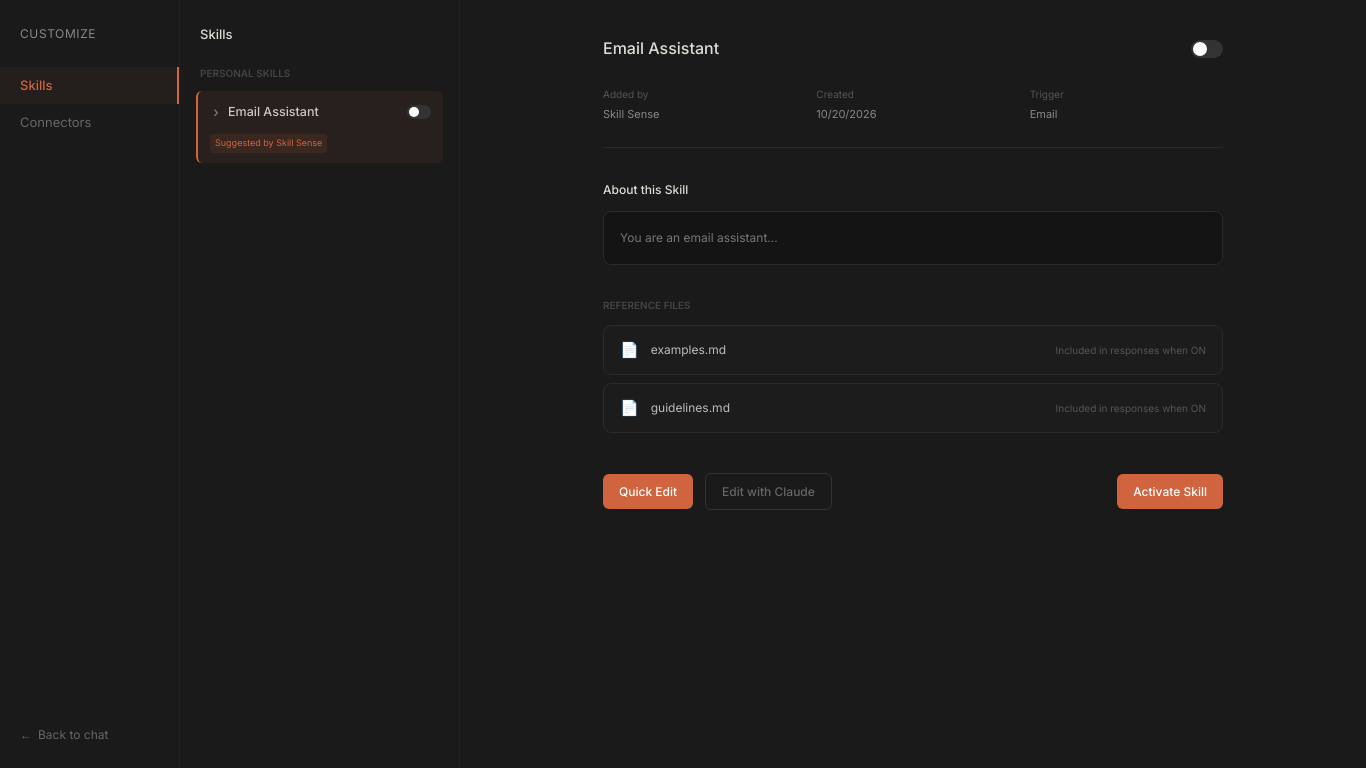
it: Phase 7 — Skills Section (Three-Panel Layout) › Edit with Claude button shows Coming Soon on click
Click the button with test id "edit-claude-btn" at (768, 491), box [705, 473, 832, 510]
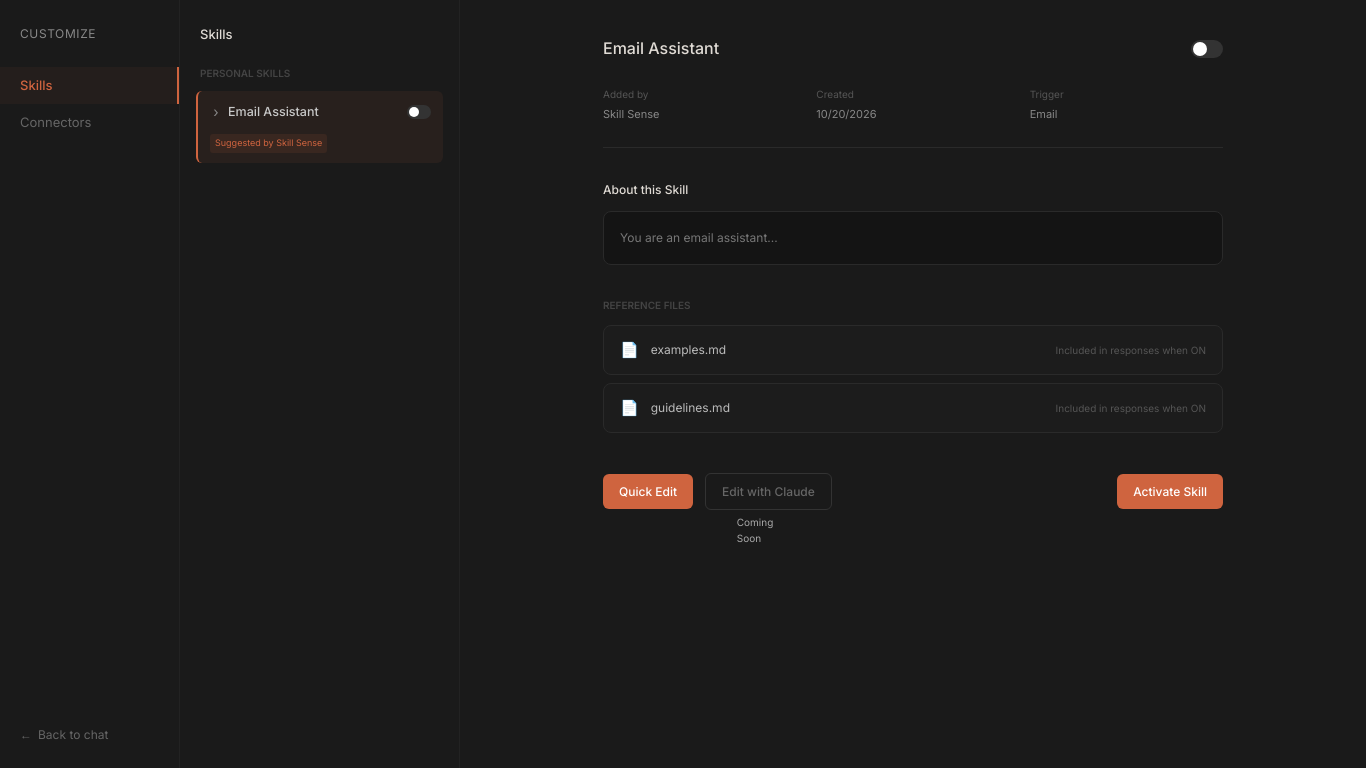
Expected: the text "Coming Soon" is shown, [737, 516, 773, 544]
